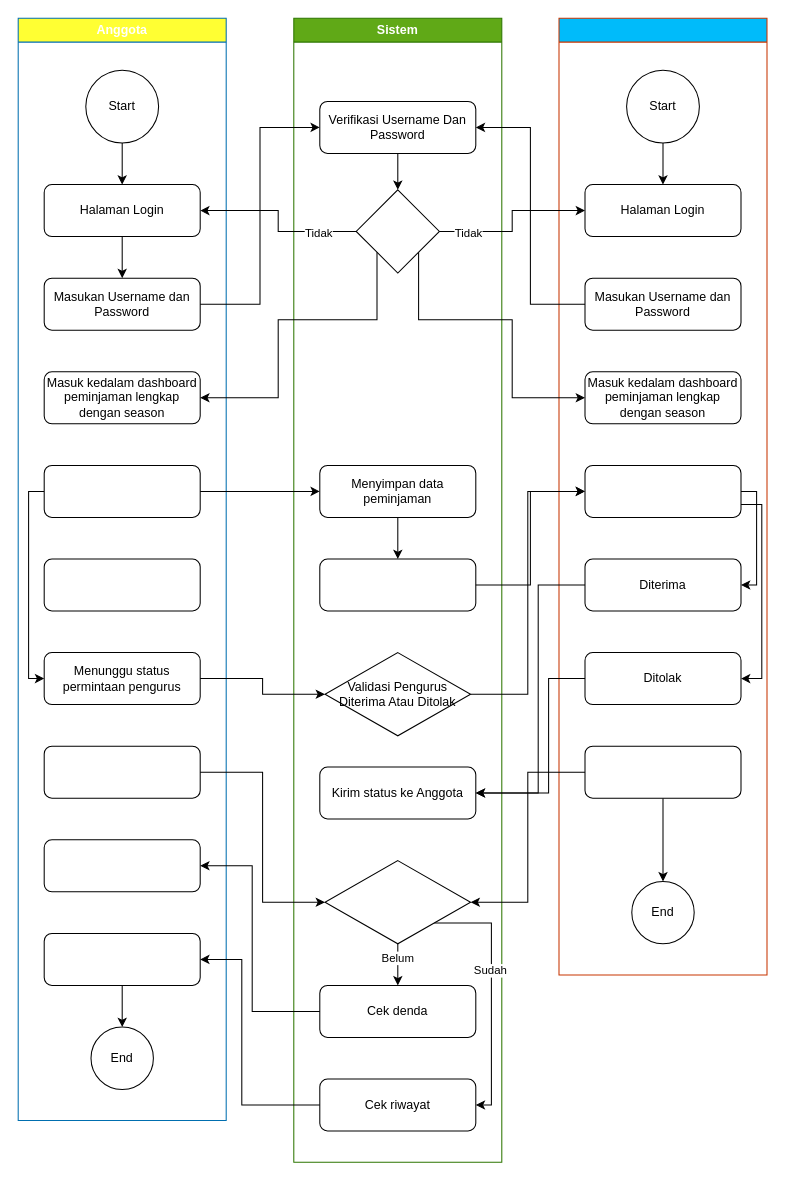
Image size: 788x1180. Some labels were removed from this diagram. Here are the shapes that lost their labels. From the top down, the box of each, then its label:
(355, 189, 439, 273): Sesuai
(43, 464, 200, 517): Isi form ]peminjaman buku
(584, 464, 741, 517): Melihat riwayat status peminjaman
(558, 17, 767, 975): Pengurus/Admin
(43, 558, 200, 611): Pilih menu peminjaman
(319, 558, 476, 611): Mengirim notifikasi ke Pengurus
(43, 745, 200, 798): Mengembalikan buku
(584, 745, 741, 798): Cek sudah kembali atau belum
(43, 839, 200, 892): Bayar denda
(324, 860, 471, 944): Validasi Pengurus sudah/belum
(43, 932, 200, 985): Riwayat buku
